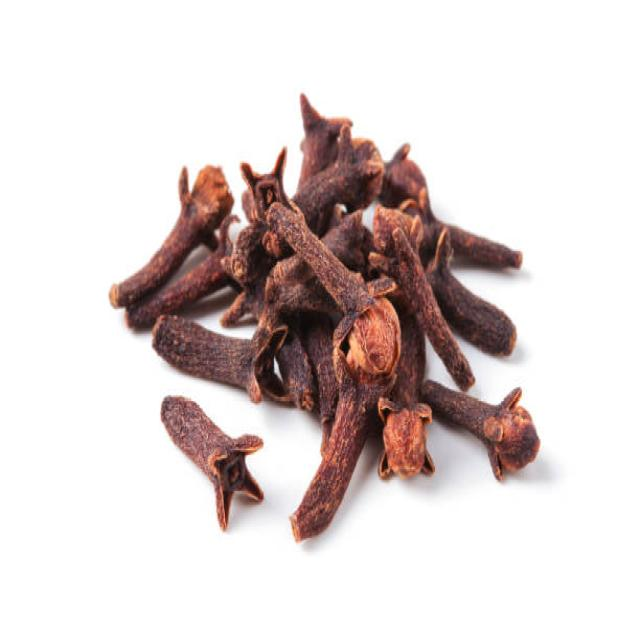clove: (109, 96, 539, 539)
